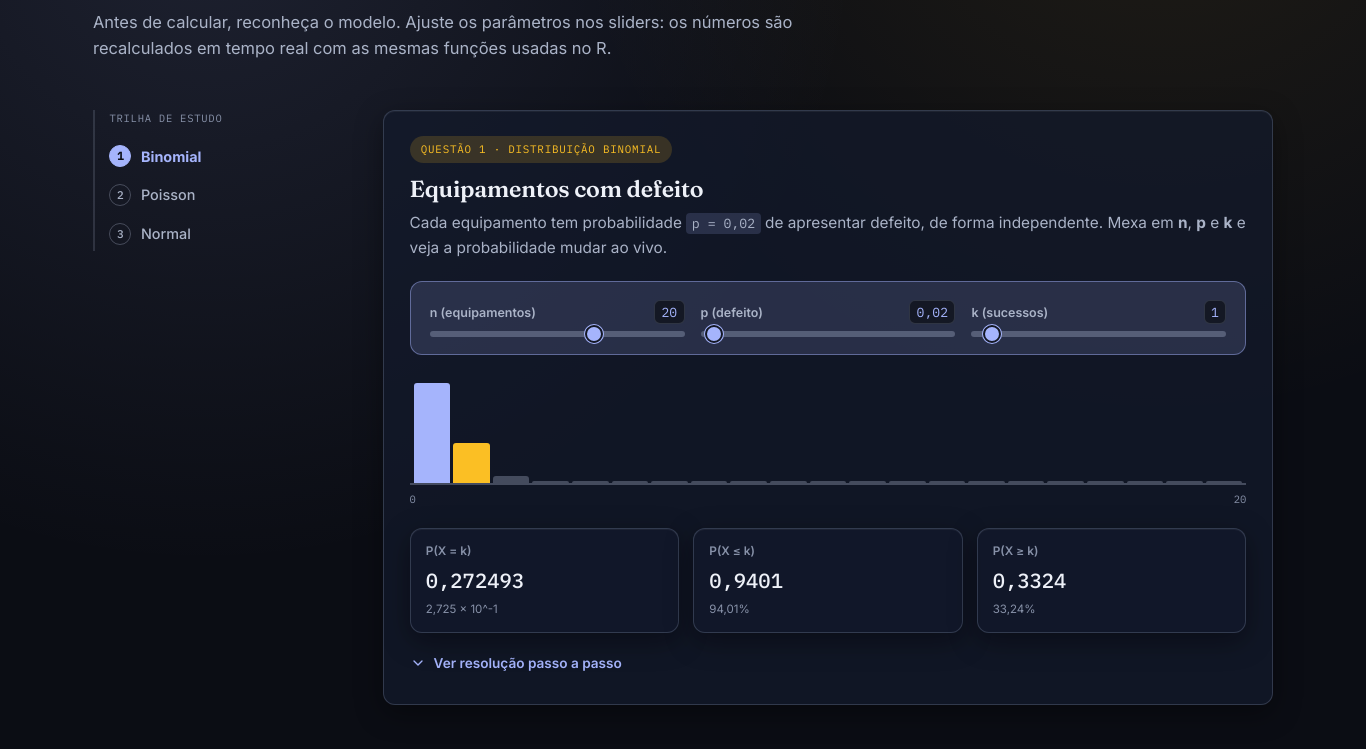
Test: ProbabilityLab → quadro animado (unificação) › clicar no cartão traz a próxima questão, uma por vez
(page scrolled)
Step 1. Press the mouse on the element named "questões de" → (828, 407), box [383,110,1273,705]
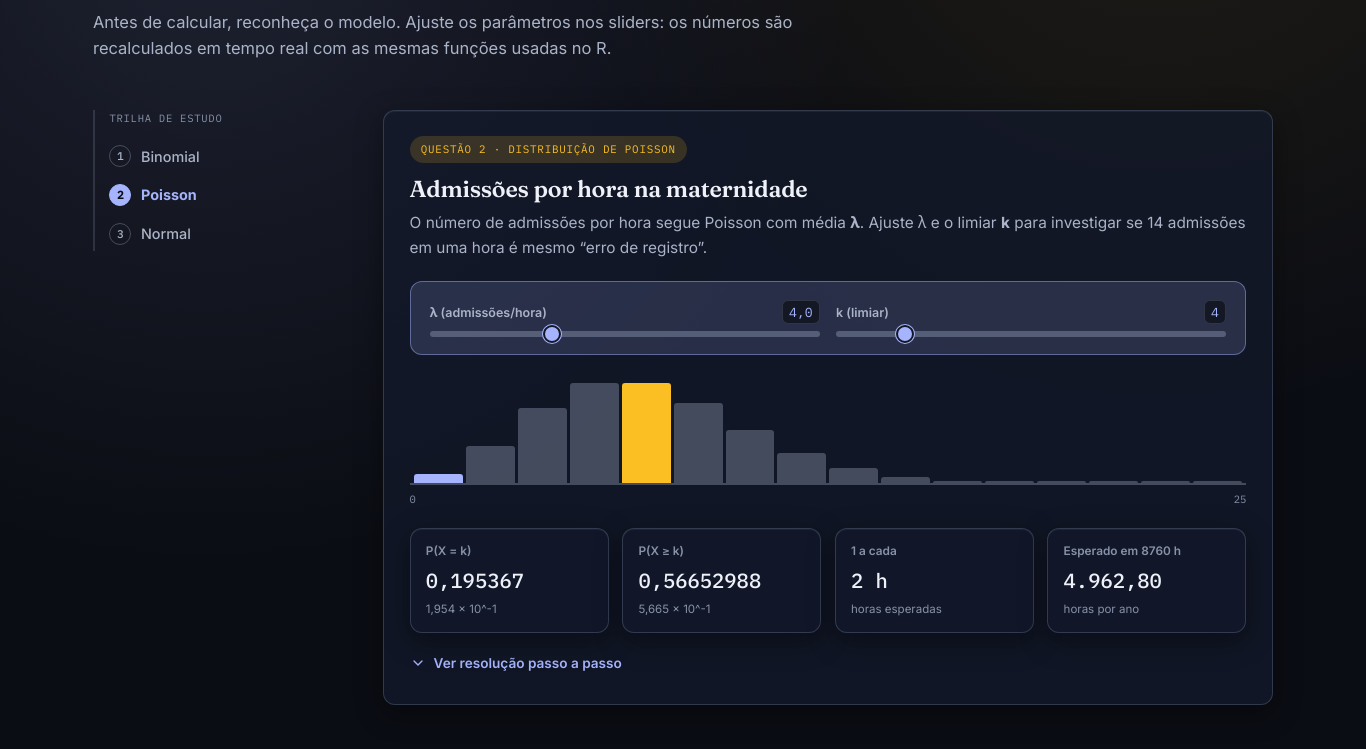
Now the slider labelled "λ (admissões/hora)" is shown, box [430,331,820,337]
Now the text labelled "p (defeito)" is gone
